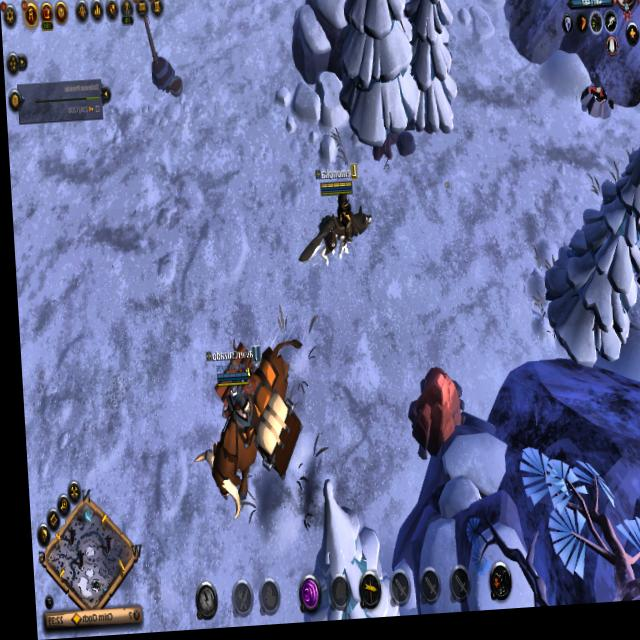rock tier 5: (402, 367, 466, 469)
